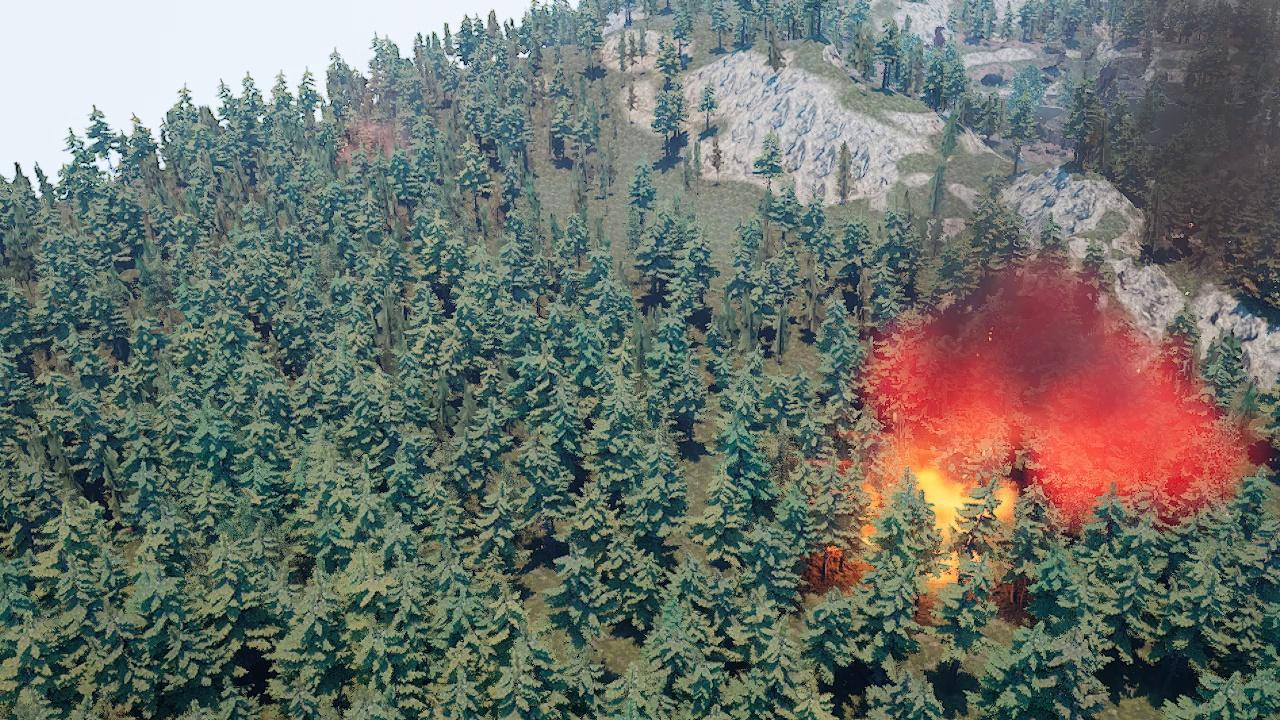fire: (839, 461, 1019, 582)
smoke: (844, 257, 1251, 531), (1084, 0, 1280, 254), (337, 101, 407, 170)
